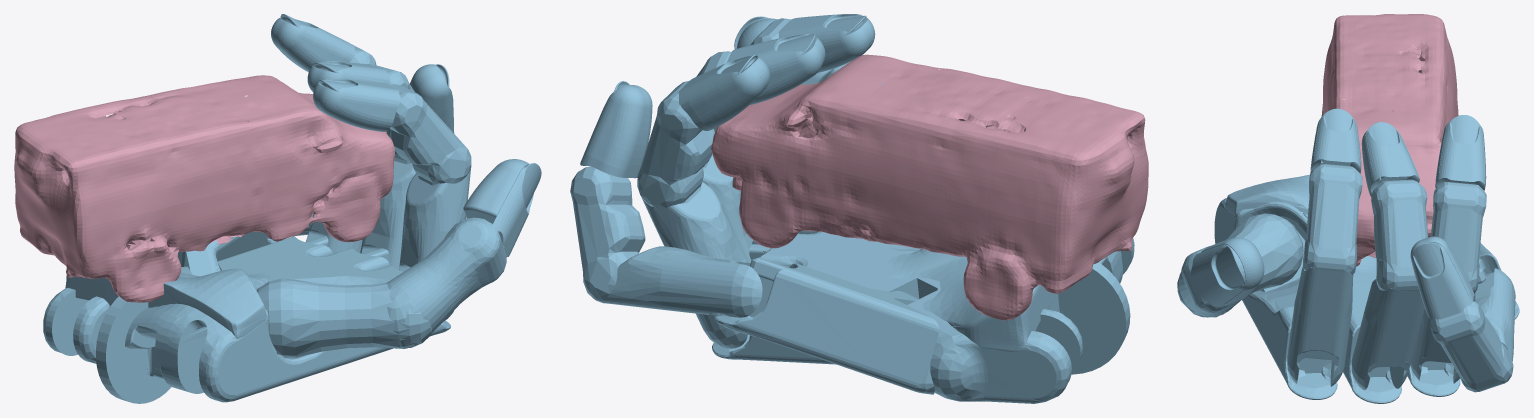
The picture shows the model from 3 angles, left to right: view 1: azimuth 30°, elevation 25°; view 2: azimuth 150°, elevation 25°; view 3: azimuth 270°, elevation 25°; orthographic projection. The views are drawn at different scales.
Parts seen in each view (by area): view 1: hand, world; view 2: hand, world; view 3: hand, world.
Part boxes in pixels (x1,y1,x2,y2): hand: (43, 14, 541, 403); world: (14, 75, 394, 302); hand: (570, 14, 1134, 403); world: (711, 54, 1148, 320); hand: (1177, 108, 1519, 403); world: (1316, 14, 1458, 266).
Bounding box in the file's own units: 0.1691 × 0.0998 × 0.118.
